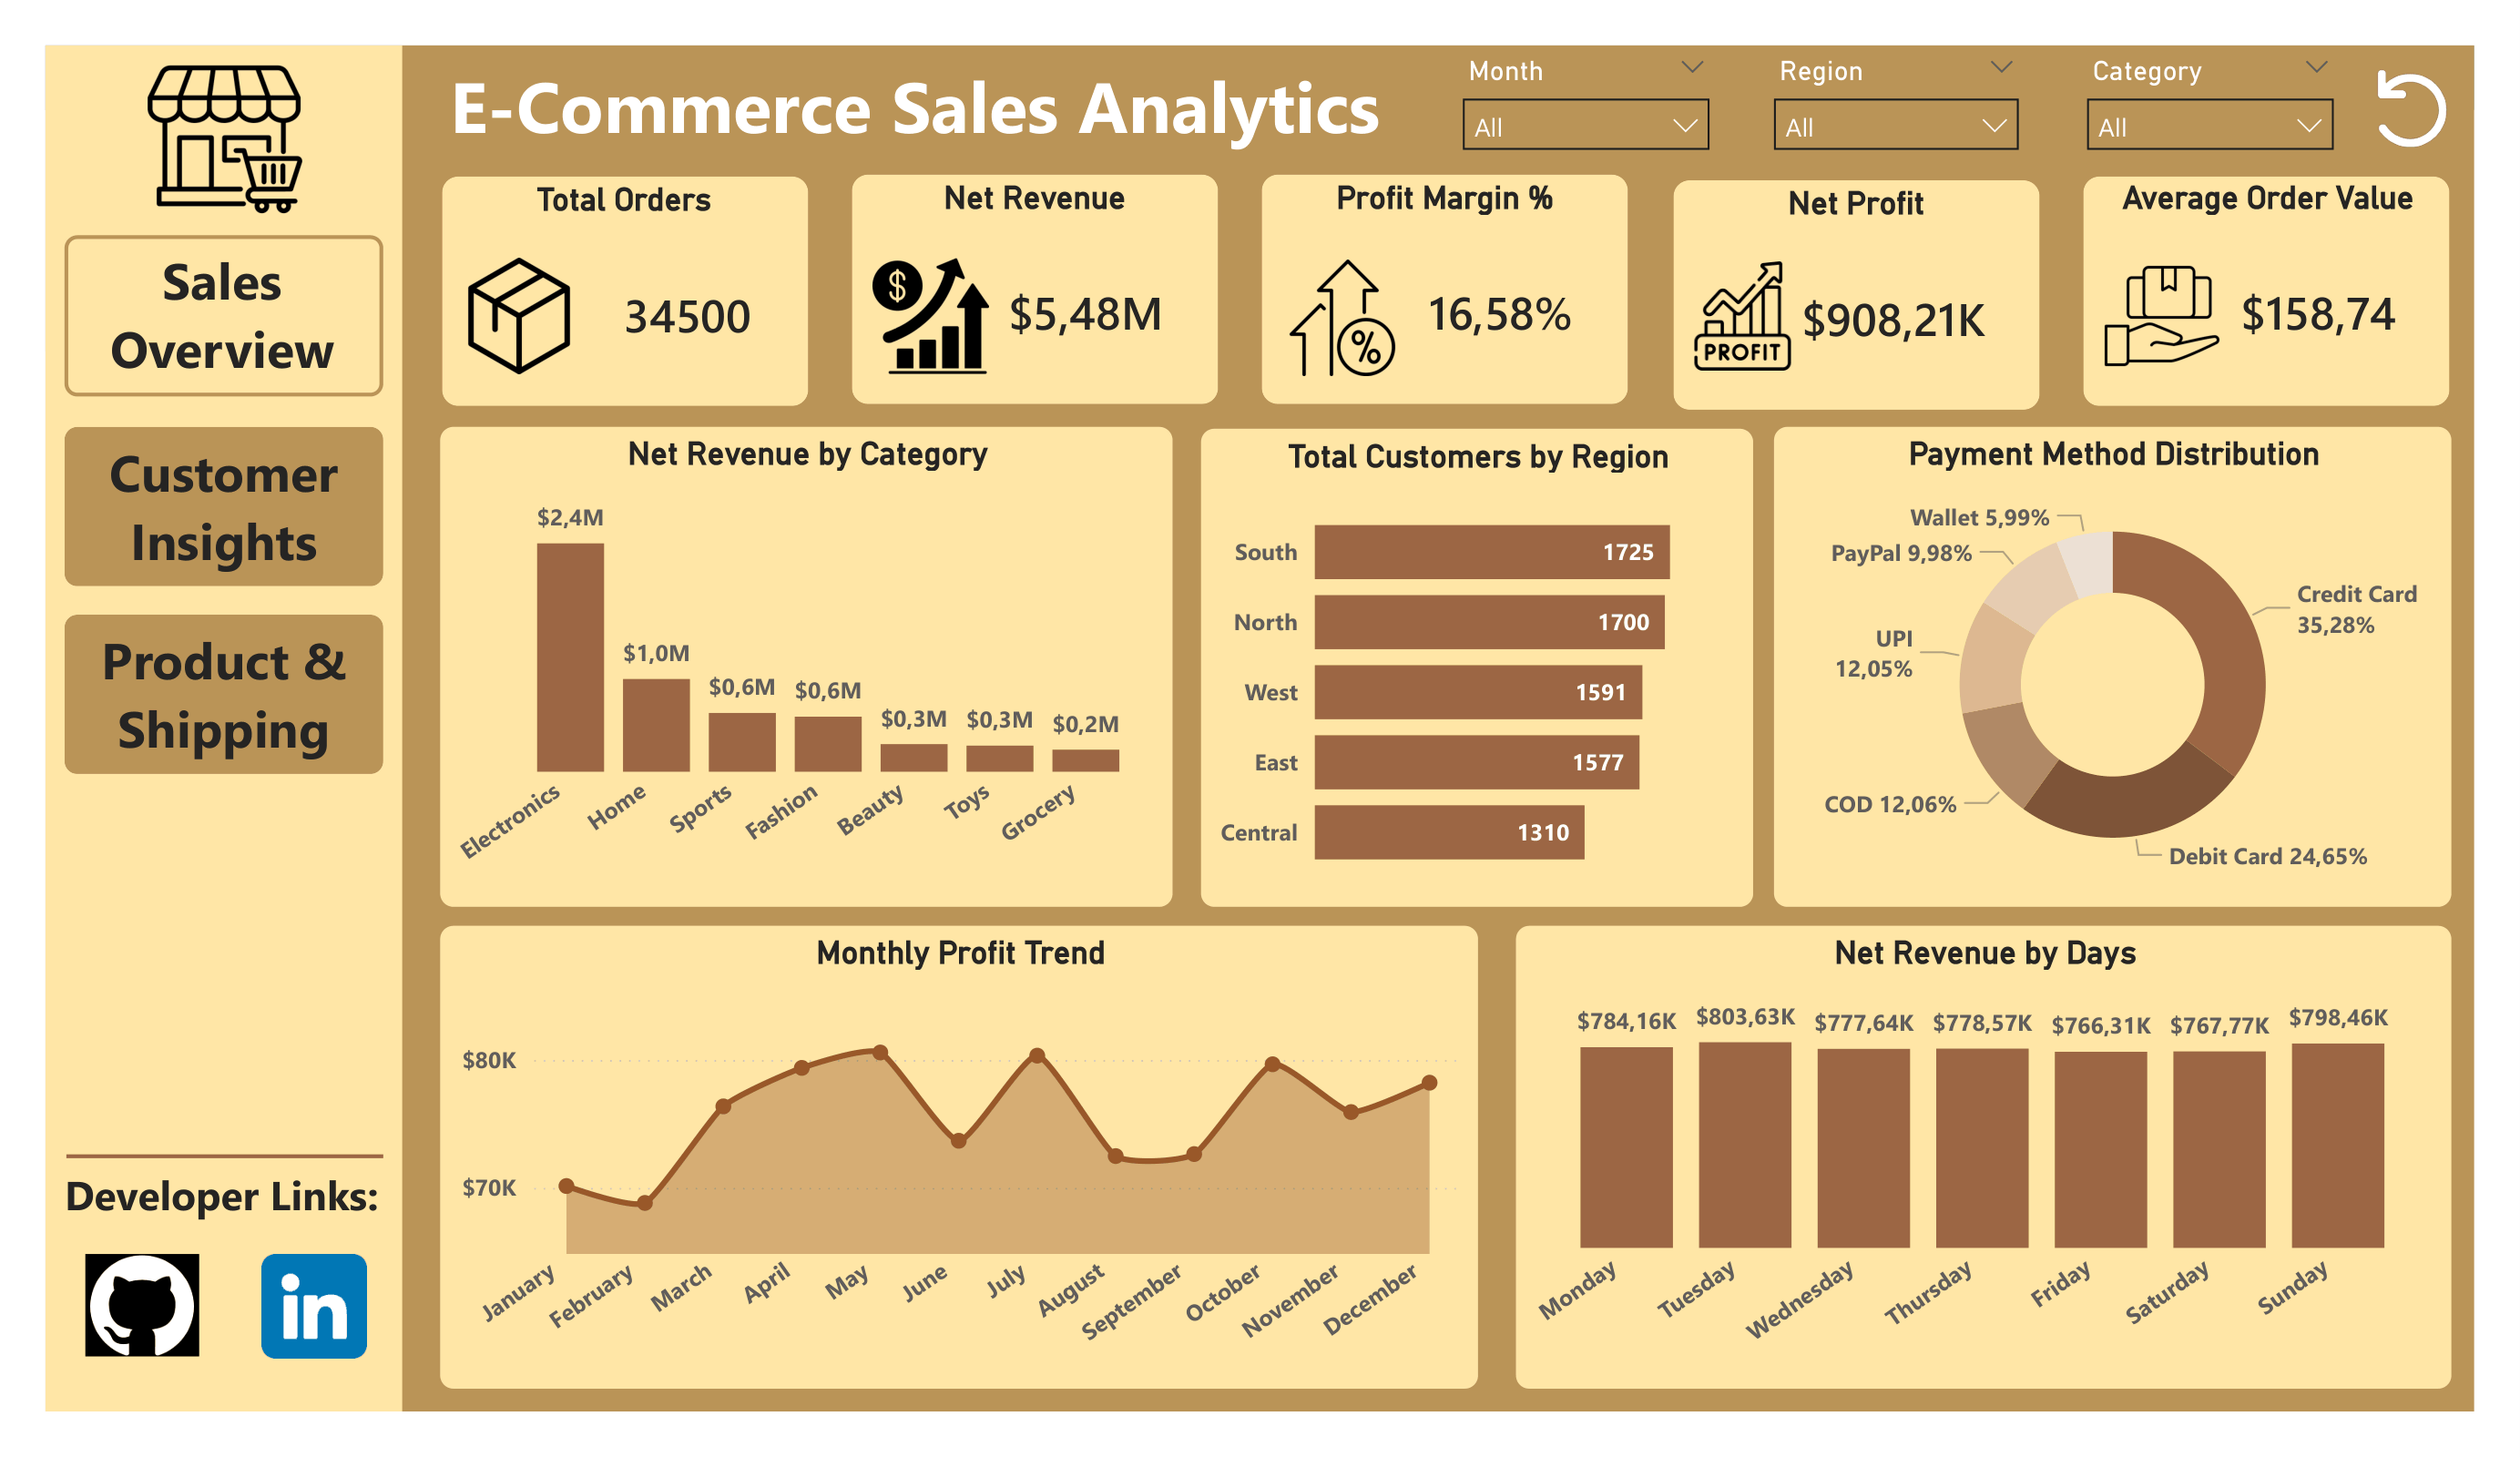

The dashboard page shown, as its layout file describes it:
{"tool":"powerbi","page":{"name":"Sales Overview","canvas":[1280,720],"ordinal":0},"visuals":[{"type":"shape","box":[0,0,188,720],"z":0},{"type":"shape","box":[10.9,496.6,166.7,177.6],"z":1000},{"type":"lineChart","title":"Monthly Profit Trend","fields":{"Category":["dim_date.month_name"],"Y":["_Measures.Net Profit"]},"box":[207.8,464,547.4,244.1],"z":2000},{"type":"clusteredColumnChart","title":"Net Revenue by Category","fields":{"Category":["dim_product.category"],"Y":["_Measures.Net Revenue"]},"box":[207.8,201.4,386,252.1],"z":3000},{"type":"donutChart","title":"Payment Method Distribution","fields":{"Category":["fact_sales.payment_method"],"Y":["CountNonNull(fact_sales.customer_id)"]},"box":[911.3,201.4,356.5,252.1],"z":4000},{"type":"textbox","box":[207.8,1.2,529.2,64],"z":5000},{"type":"clusteredBarChart","title":"Total Customers by Region","fields":{"Category":["dim_customer.region"],"Y":["_Measures.Total Customers"]},"box":[609,201.8,291.2,252.5],"z":6000},{"type":"clusteredColumnChart","title":"Net Revenue by Days","fields":{"Category":["dim_date.day_of_week"],"Y":["_Measures.Net Revenue"]},"box":[774.5,464,493,244.1],"z":7000},{"type":"shape","box":[208.8,69,193.2,120.6],"z":8000},{"type":"cardVisual","title":"Total Orders","fields":{"Data":["_Measures.Total Orders"]},"box":[208.8,70.7,192,119.2],"z":9000},{"type":"image","box":[216.6,112.1,65.1,60.8],"z":10000},{"type":"shape","box":[425.1,68.3,193.2,120.6],"z":11000},{"type":"cardVisual","title":"Net Revenue","fields":{"Data":["_Measures.Net Revenue"]},"box":[425,69.6,193,119.2],"z":12000},{"type":"shape","box":[640.7,68.3,193.2,120.6],"z":13000},{"type":"cardVisual","title":"Profit Margin %","fields":{"Data":["_Measures.Profit Margin %"]},"box":[641.1,69.8,193.2,119.5],"z":14000},{"type":"shape","box":[857.7,71.2,193.2,120.6],"z":15000},{"type":"cardVisual","title":"Net Profit","fields":{"Data":["_Measures.Net Profit"]},"box":[858,72.6,193.2,119.5],"z":16000},{"type":"shape","box":[1074,69.1,193.2,120.6],"z":17000},{"type":"cardVisual","title":"Average Order Value","fields":{"Data":["_Measures.AOV"]},"box":[1074.7,69.6,193,120.2],"z":18000},{"type":"image","box":[434.4,112.1,65.1,60.8],"z":19000},{"type":"image","box":[651,113.1,65.1,60.8],"z":20000},{"type":"image","box":[865.9,111.8,57,61.2],"z":21000},{"type":"image","box":[1083.2,112.1,65.1,60.8],"z":22000},{"type":"image","box":[47.5,9.5,93.9,80.2],"z":23000},{"type":"shape","box":[10,100,168,84.6],"z":24000},{"type":"shape","box":[10,200.7,167.7,84],"z":25000},{"type":"shape","box":[10.2,300,167.7,84.4],"z":26000},{"type":"textbox","box":[9.5,100.2,167.7,84.4],"z":27000},{"type":"textbox","box":[9.7,200.6,168,84.6],"z":28000},{"type":"textbox","box":[9.7,299.7,168,84.6],"z":29000},{"type":"image","box":[20.8,636.8,60.4,54.4],"z":30000},{"type":"image","box":[110.7,637,61.2,54.8],"z":31000},{"type":"slicer","fields":{"Values":["dim_date.month_name"]},"box":[737.2,0,149.8,69.6],"z":32000},{"type":"slicer","fields":{"Values":["dim_customer.region"]},"box":[900.7,0,149.8,69.6],"z":33000},{"type":"slicer","fields":{"Values":["dim_product.category"]},"box":[1066.3,0,149.8,69.6],"z":34000},{"type":"image","box":[1216.1,9.5,60.1,50.6],"z":35000},{"type":"shape","box":[10.5,100.2,167.7,84.4],"z":36000},{"type":"shape","box":[9.5,200.4,167.7,84.4],"z":37000},{"type":"shape","box":[10.5,299.5,167.7,84.4],"z":38000},{"type":"textbox","box":[4.8,586,177.6,43.5],"z":39000}]}

Visuals, with their boxes on the page's 1280x720 design canvas (x1, y1, x2, y2). These are canvas units, not pixel positions in the 2520x1457 screenshot, which may show the page scaled, cropped or inside an application window:
shape: x1=0, y1=0, x2=188, y2=720
shape: x1=11, y1=497, x2=178, y2=674
"Monthly Profit Trend" lineChart: x1=208, y1=464, x2=755, y2=708
"Net Revenue by Category" clusteredColumnChart: x1=208, y1=201, x2=594, y2=454
"Payment Method Distribution" donutChart: x1=911, y1=201, x2=1268, y2=454
textbox: x1=208, y1=1, x2=737, y2=65
"Total Customers by Region" clusteredBarChart: x1=609, y1=202, x2=900, y2=454
"Net Revenue by Days" clusteredColumnChart: x1=774, y1=464, x2=1268, y2=708
shape: x1=209, y1=69, x2=402, y2=190
"Total Orders" cardVisual: x1=209, y1=71, x2=401, y2=190
image: x1=217, y1=112, x2=282, y2=173
shape: x1=425, y1=68, x2=618, y2=189
"Net Revenue" cardVisual: x1=425, y1=70, x2=618, y2=189
shape: x1=641, y1=68, x2=834, y2=189
"Profit Margin %" cardVisual: x1=641, y1=70, x2=834, y2=189
shape: x1=858, y1=71, x2=1051, y2=192
"Net Profit" cardVisual: x1=858, y1=73, x2=1051, y2=192
shape: x1=1074, y1=69, x2=1267, y2=190
"Average Order Value" cardVisual: x1=1075, y1=70, x2=1268, y2=190
image: x1=434, y1=112, x2=500, y2=173
image: x1=651, y1=113, x2=716, y2=174
image: x1=866, y1=112, x2=923, y2=173
image: x1=1083, y1=112, x2=1148, y2=173
image: x1=48, y1=10, x2=141, y2=90
shape: x1=10, y1=100, x2=178, y2=185
shape: x1=10, y1=201, x2=178, y2=285
shape: x1=10, y1=300, x2=178, y2=384
textbox: x1=10, y1=100, x2=177, y2=185
textbox: x1=10, y1=201, x2=178, y2=285
textbox: x1=10, y1=300, x2=178, y2=384
image: x1=21, y1=637, x2=81, y2=691
image: x1=111, y1=637, x2=172, y2=692
slicer - dim_date.month_name: x1=737, y1=0, x2=887, y2=70
slicer - dim_customer.region: x1=901, y1=0, x2=1050, y2=70
slicer - dim_product.category: x1=1066, y1=0, x2=1216, y2=70
image: x1=1216, y1=10, x2=1276, y2=60
shape: x1=10, y1=100, x2=178, y2=185
shape: x1=10, y1=200, x2=177, y2=285
shape: x1=10, y1=300, x2=178, y2=384
textbox: x1=5, y1=586, x2=182, y2=630
